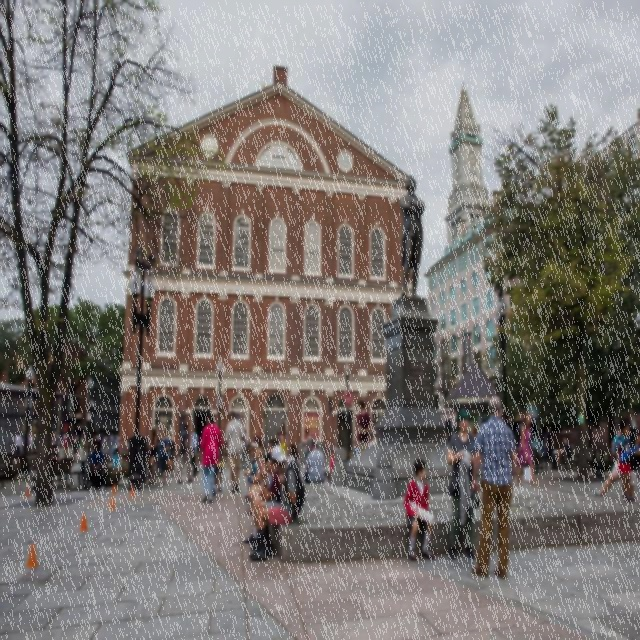pessoa: (471, 392, 518, 582), (246, 444, 306, 564), (446, 407, 483, 561), (594, 418, 640, 504), (242, 451, 282, 548), (398, 170, 427, 302), (402, 456, 436, 562), (250, 451, 282, 537), (251, 438, 278, 534), (196, 412, 224, 504), (223, 410, 249, 494), (614, 417, 636, 505), (516, 410, 536, 488), (246, 451, 268, 516), (301, 439, 328, 487), (354, 398, 374, 453), (177, 423, 194, 485), (243, 441, 259, 504), (88, 438, 106, 493), (213, 436, 227, 494), (552, 435, 573, 473), (157, 426, 170, 484), (147, 426, 159, 486), (51, 429, 71, 462), (188, 424, 200, 478), (248, 482, 265, 520), (84, 432, 120, 448), (20, 429, 40, 457), (285, 444, 301, 476), (254, 448, 270, 478), (155, 432, 164, 478), (544, 425, 554, 464), (241, 428, 250, 471), (328, 446, 338, 484), (111, 436, 121, 472), (278, 422, 290, 452), (444, 428, 458, 449), (304, 428, 316, 451), (632, 428, 640, 462), (146, 438, 152, 478), (14, 430, 22, 458), (80, 432, 88, 460), (630, 414, 638, 442), (212, 459, 218, 496), (70, 434, 80, 456), (252, 430, 262, 448), (28, 464, 38, 481), (198, 439, 203, 466), (367, 431, 374, 448), (352, 444, 360, 456), (93, 432, 98, 449), (100, 432, 104, 450), (167, 444, 171, 459), (168, 427, 173, 439), (374, 426, 379, 438)
